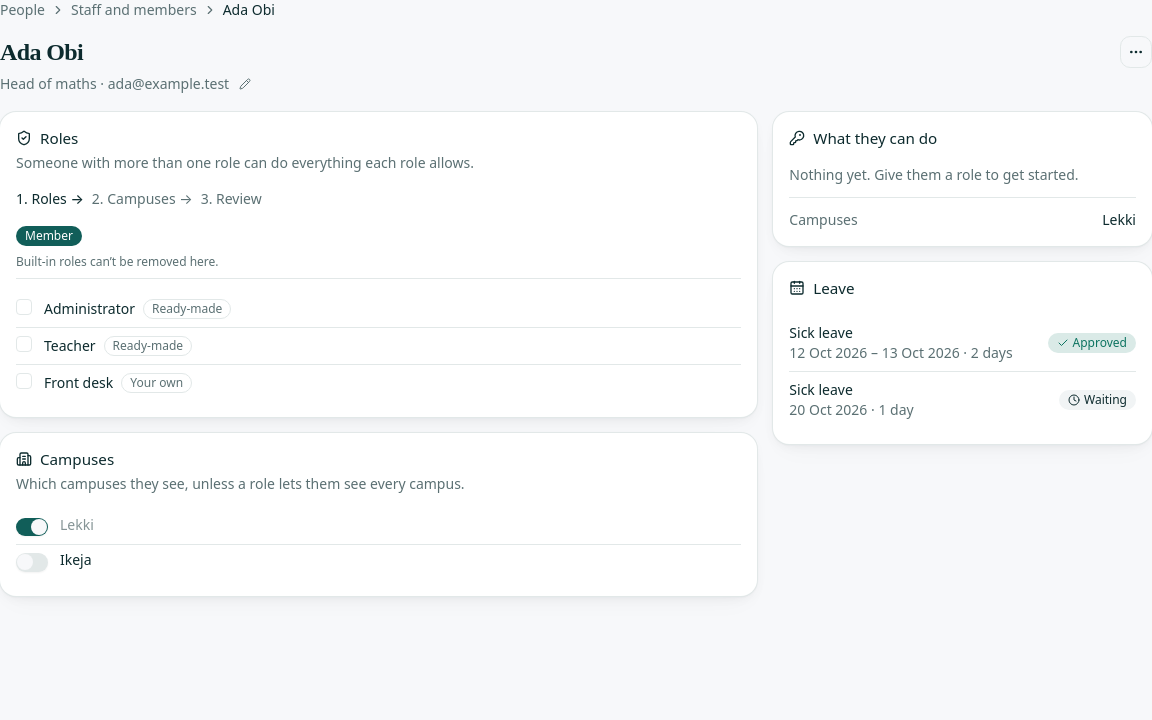
Test: MemberPage › offers Edit job title to an editor and opens its dialog
This screenshot has width=1152, height=720.
Click the button named "Edit job title" at coordinates (245, 84), box [233,72,257,96]
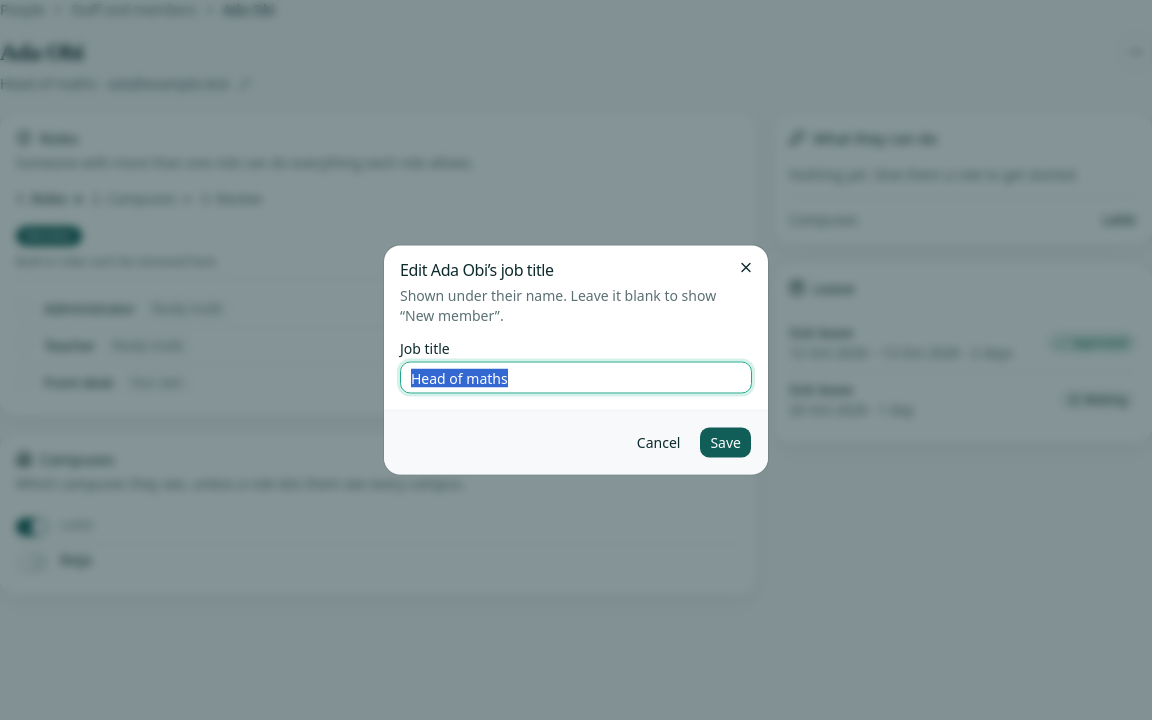
Result: the heading "Edit Ada Obi’s job title" is shown at [400,258,554,280]
